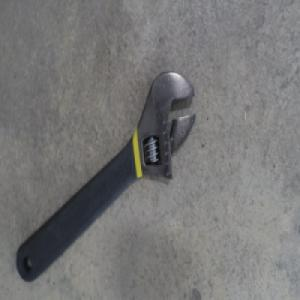AdjustableWrench: (16, 71, 196, 281)
